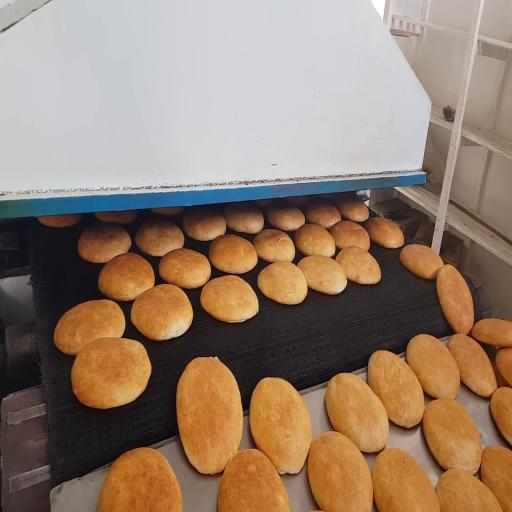bread: (176, 358, 243, 474), (250, 378, 311, 474), (71, 338, 151, 409), (97, 448, 183, 511), (308, 431, 372, 511), (326, 374, 389, 452), (218, 449, 290, 511), (423, 399, 482, 474), (368, 351, 424, 428), (372, 448, 439, 511), (54, 300, 125, 355), (131, 284, 193, 340), (407, 335, 460, 398), (447, 334, 497, 397), (436, 469, 502, 511), (98, 253, 154, 301), (201, 276, 258, 322), (437, 265, 474, 334), (78, 224, 131, 263), (258, 262, 307, 304), (159, 248, 210, 288), (481, 446, 511, 511), (209, 235, 257, 274), (298, 256, 347, 294), (135, 221, 184, 256), (336, 246, 381, 284), (400, 244, 443, 280), (183, 208, 226, 241), (253, 229, 295, 262), (295, 224, 335, 257), (224, 203, 263, 234), (366, 217, 404, 248), (491, 387, 511, 445), (331, 221, 370, 250), (471, 319, 511, 347), (268, 206, 305, 231), (305, 204, 341, 228), (338, 199, 369, 222), (495, 348, 512, 386), (38, 214, 82, 228), (94, 211, 138, 224), (492, 360, 508, 387), (151, 207, 184, 215), (284, 196, 309, 206), (253, 199, 275, 208)
